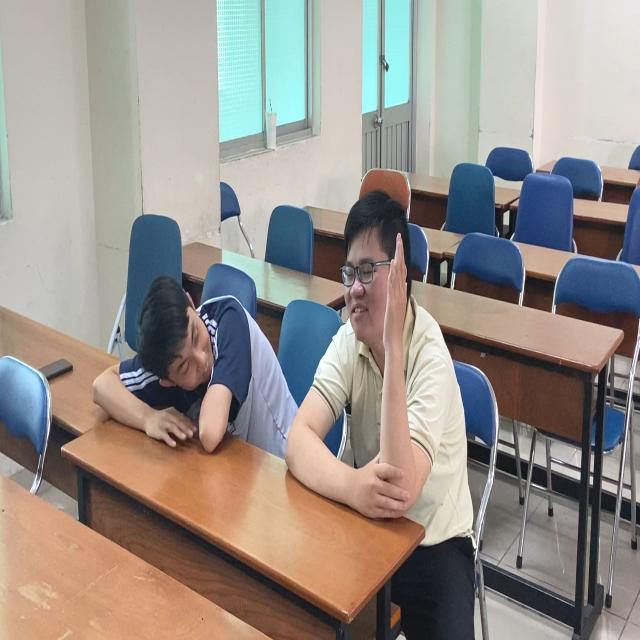raise_hand: (298, 183, 446, 525)
sleep: (83, 267, 285, 457)
